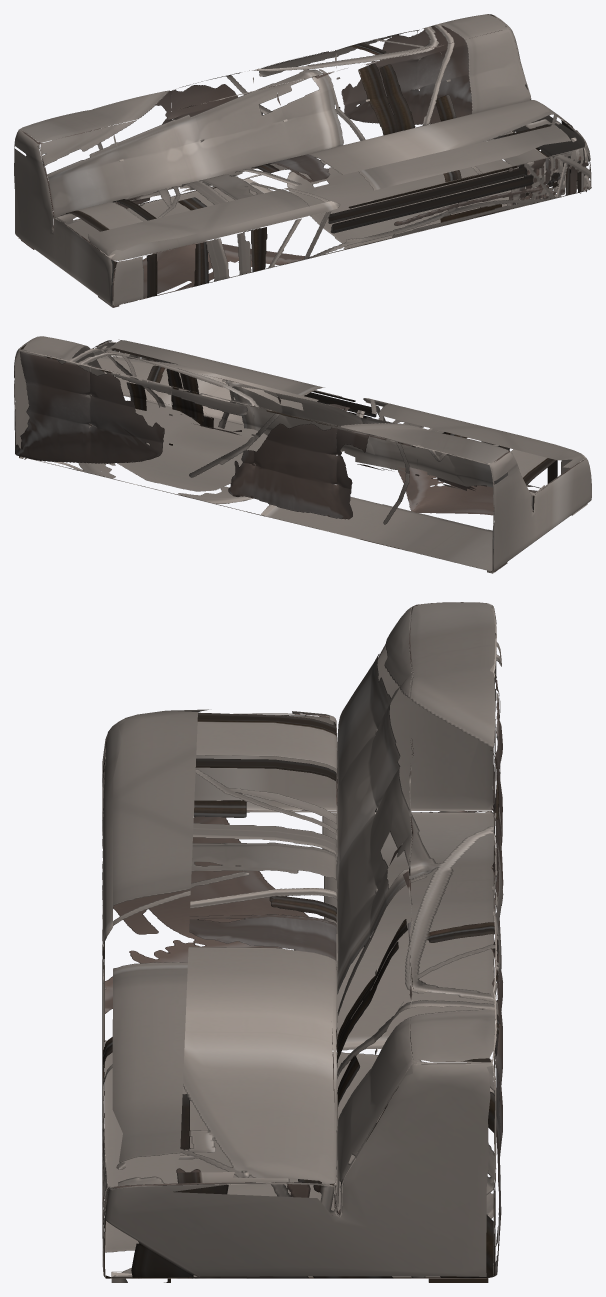
3 renders of one model, top to bottom at view 1: azimuth 30°, elevation 25°; view 2: azimuth 150°, elevation 25°; view 3: azimuth 270°, elevation 25°, orthographic. The views are drawn at different scales.
Visible parts, largest first — view 1: solid_003; view 2: solid_003; view 3: solid_003.
Part boxes in pixels (x1=…): solid_003: x1=14, y1=14, x2=591, y2=306; solid_003: x1=14, y1=336, x2=591, y2=571; solid_003: x1=102, y1=602, x2=503, y2=1278.
Bounding box in the file's own units: 2 × 0.4446 × 0.7213.
